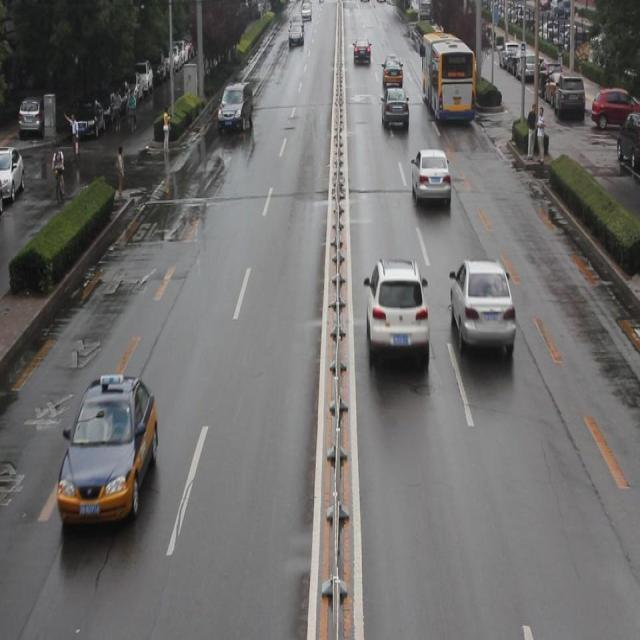car: (60, 374, 156, 527), (363, 260, 428, 367), (450, 261, 512, 360), (410, 148, 450, 205), (380, 88, 408, 131)
truck: (218, 87, 253, 133)
van: (422, 33, 475, 123)
